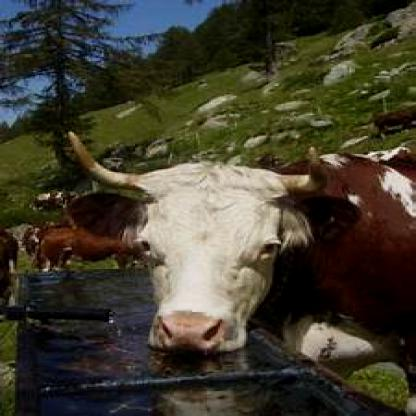cow: (65, 130, 414, 359)
